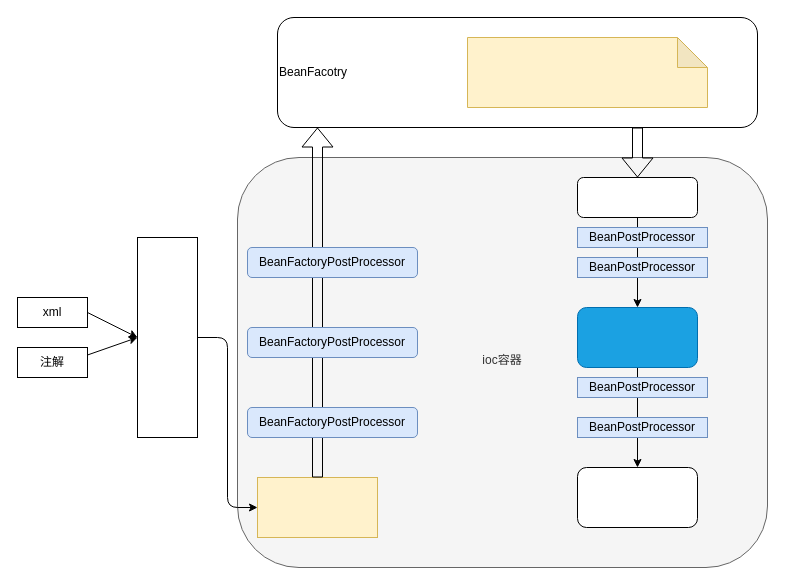
The diagram is 785 pixels wide and 585 high, and some of its shapes have lost their labels. The shapes that lost their labels are listed below. From the top down, each one's centre as x and y in pixels, then its label:
At (x=587, y=72): "Constructor ctor = Class.getConstrucor() Object object = ctor.newInstance();".
At (x=637, y=197): "Bean实例化".
At (x=167, y=337): "抽象".
At (x=637, y=337): "初始化".
At (x=317, y=507): "BeanDefinitionBean定义信息".
At (x=637, y=497): "完整的可用对象".
